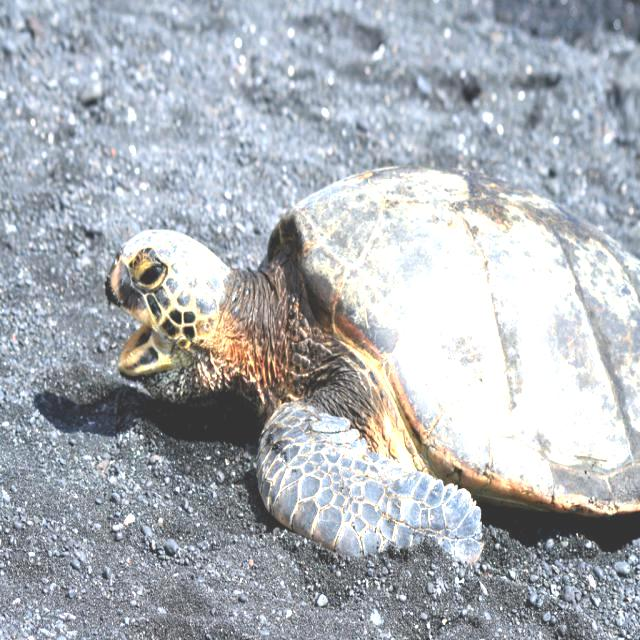Sea turtle: (105, 164, 640, 565)
